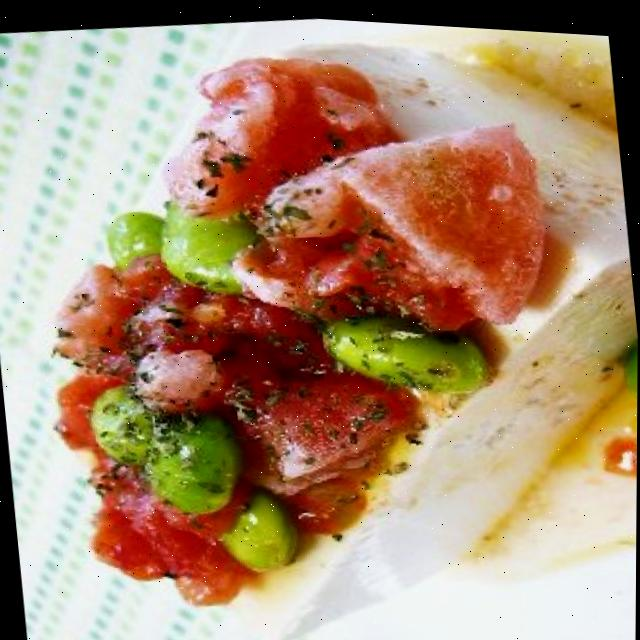豆腐料理: (11, 1, 640, 640)
